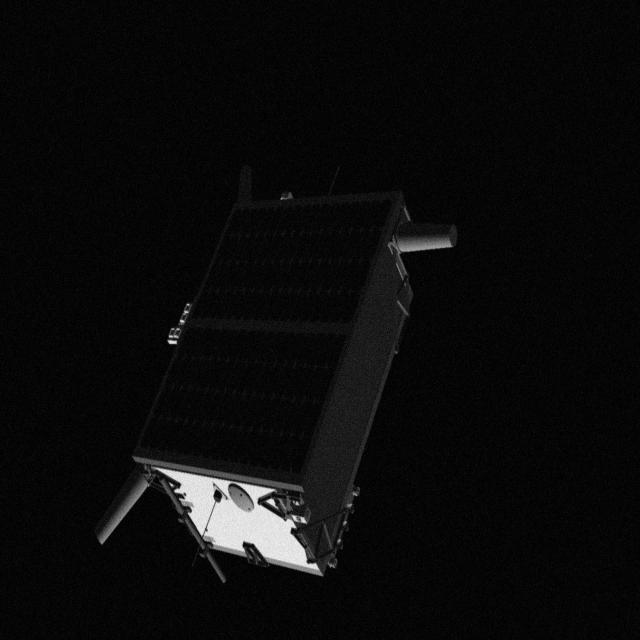medium_debris: (88, 164, 466, 600)
